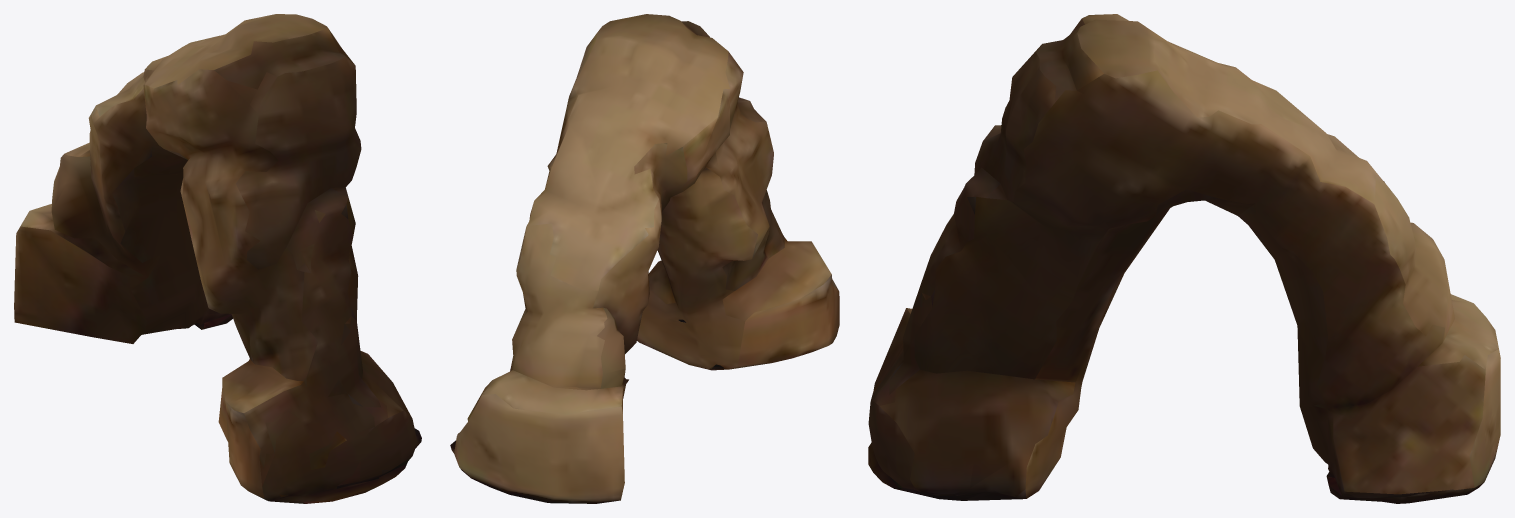
Rendered from PRP_RockArch_lod.glb.
The picture shows the model from 3 angles, left to right: view 1: azimuth 30°, elevation 25°; view 2: azimuth 150°, elevation 25°; view 3: azimuth 270°, elevation 25°; orthographic projection. The views are drawn at different scales.
Parts seen in each view (by area): view 1: Object_5; view 2: Object_5; view 3: Object_5.
Boxes of the visible parts, box(x1,y1,x2,y2) form: Object_5: box(14, 14, 421, 503); Object_5: box(450, 14, 839, 503); Object_5: box(868, 14, 1500, 503).
Size of the model in its own units: 0.3963 by 0.7635 by 0.9945.
Materials: 1 (1 with a texture image).
